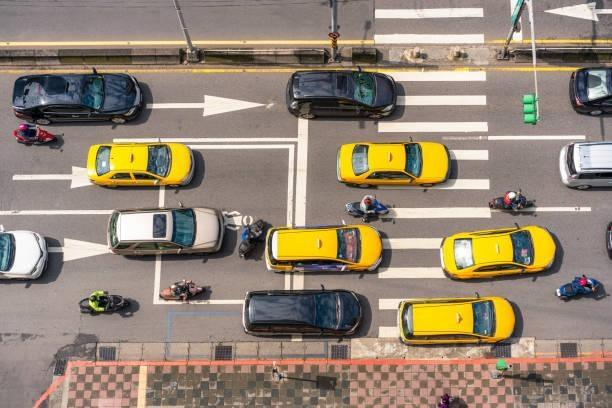Motorcycle: (478, 182, 533, 212), (552, 274, 604, 305), (339, 192, 396, 216), (232, 216, 262, 258), (9, 120, 56, 146), (79, 292, 126, 314), (157, 284, 208, 304)
